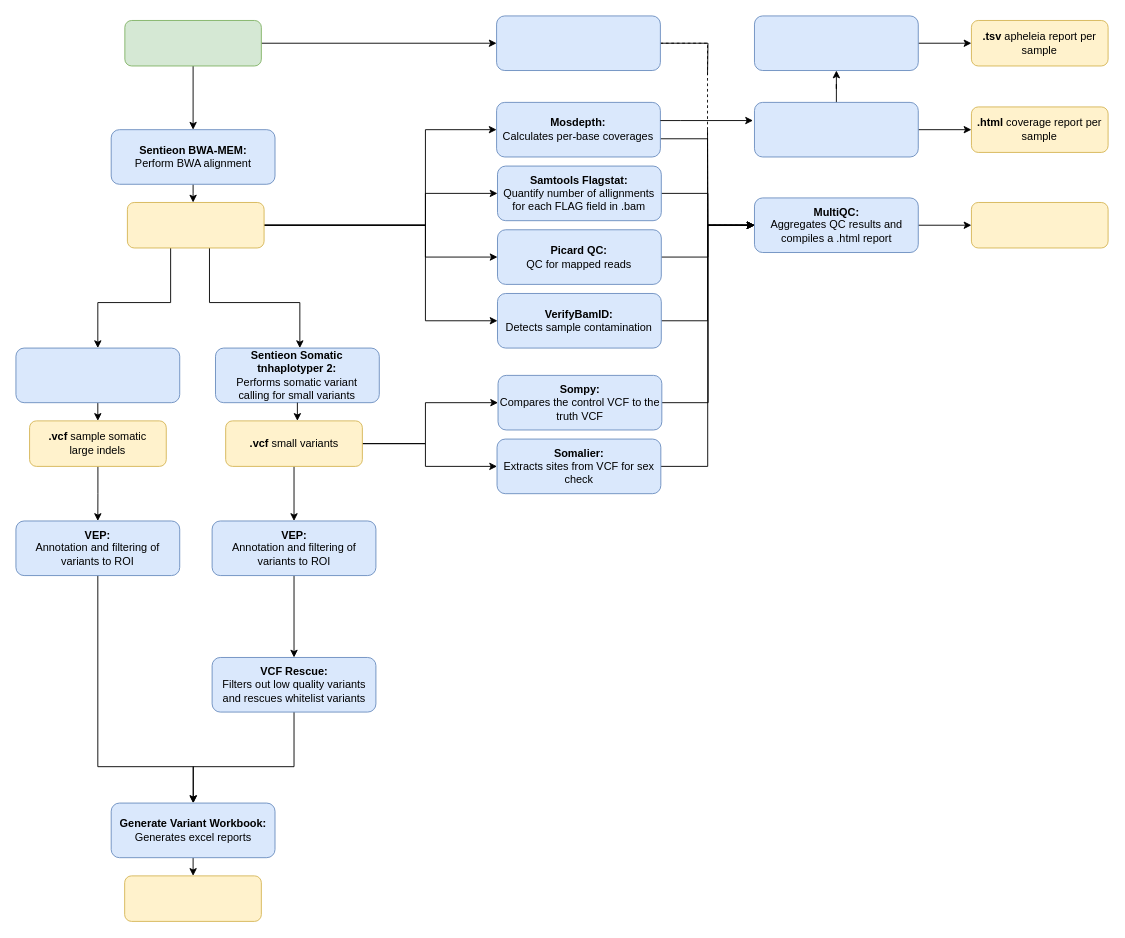
The diagram is 1125 pixels wide and 938 high, and some of its shapes have lost their labels. The shapes that lost their labels are listed below. From the top down, each one's centre as x and y in pixels, then its label:
pixel 192 43: .fastq demultiplexed sample reads
pixel 578 43: Multi FastQC: Performs simple quality control checks on raw data
pixel 836 43: Apheleia: Predicts presence of PTDs in KMT2A gene
pixel 836 129: Athena: Generate coverage reports of genomic regions
pixel 195 225: .bam sequence alignment
pixel 1039 225: QC report .html of entire run
pixel 97 375: Cgppindel: Variant calling for somatic indels
pixel 192 898: .xlsx reports workflow for scientists
